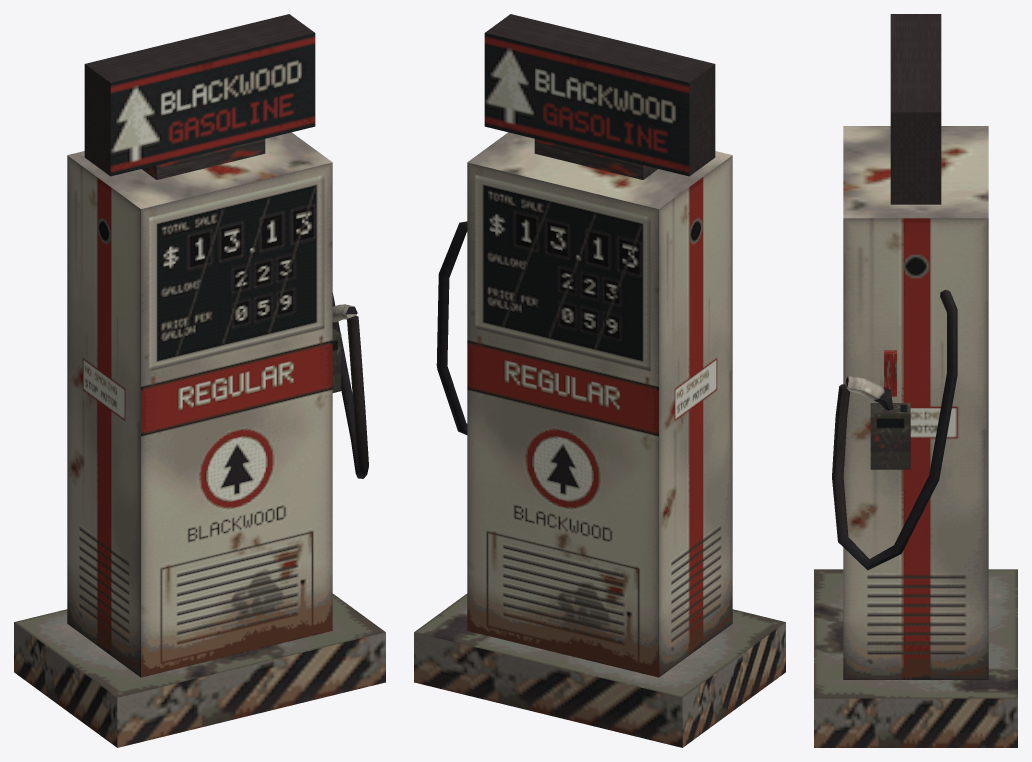
File: gas_pump_retro.obj
The picture shows the model from 3 angles, left to right: view 1: azimuth 30°, elevation 25°; view 2: azimuth 150°, elevation 25°; view 3: azimuth 270°, elevation 25°; orthographic projection.
Parts seen in each view (by area): view 1: gas_pump_retro; view 2: gas_pump_retro; view 3: gas_pump_retro.
Boxes of the visible parts, x1,y1,x2,y2 form: gas_pump_retro: (14, 14, 385, 747); gas_pump_retro: (414, 14, 785, 747); gas_pump_retro: (814, 14, 1017, 747).
Size of the model in its own units: 0.9009 by 1.88 by 0.56.
2 materials, 2 textured.
